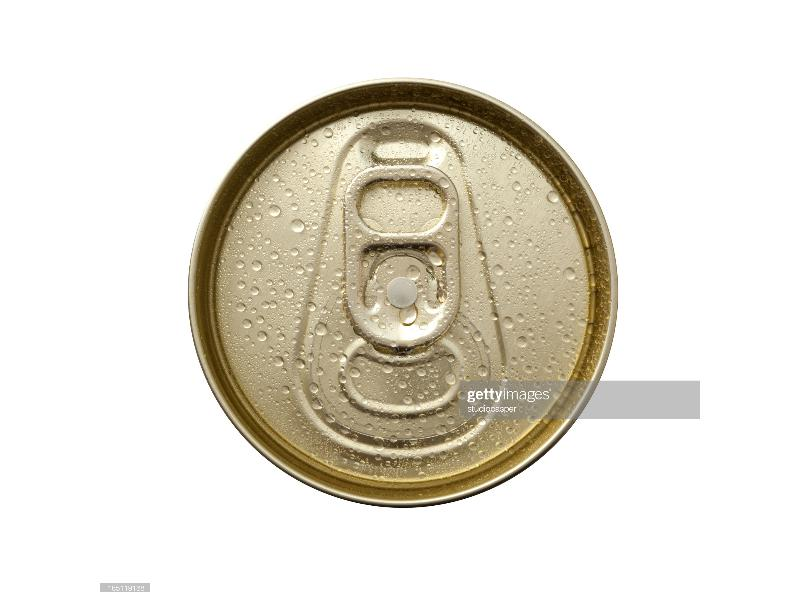can: (183, 71, 637, 521)
